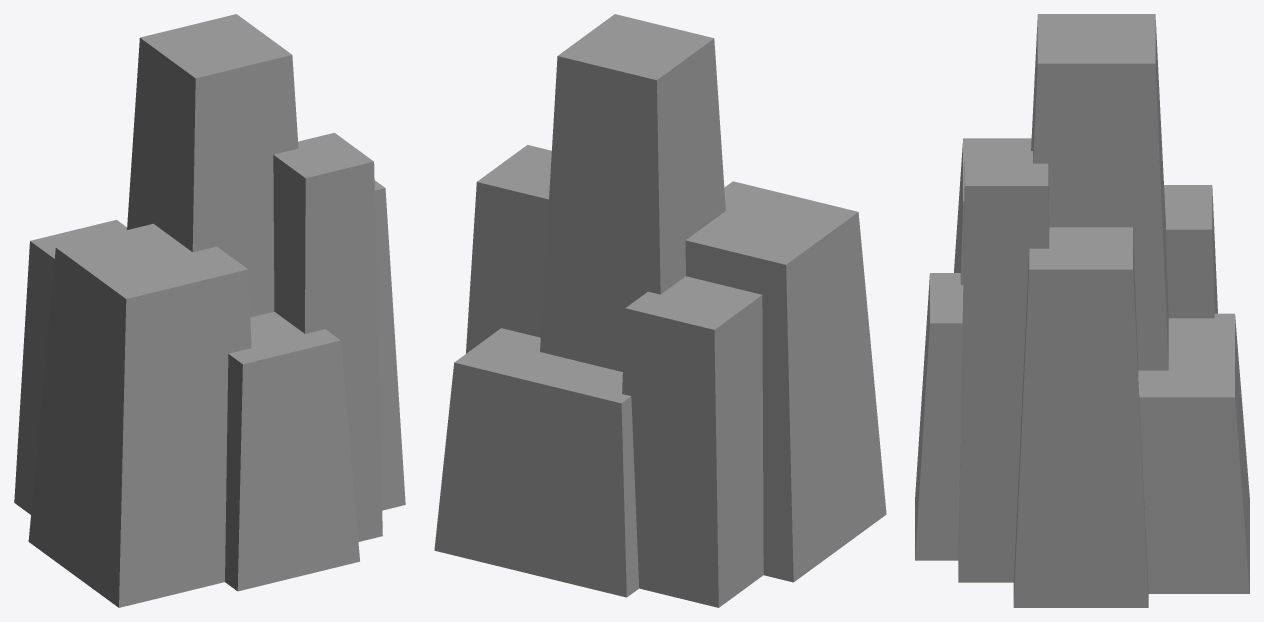
The model's file is SaltC.fbx.
3 renders of one model, left to right at view 1: azimuth 30°, elevation 25°; view 2: azimuth 150°, elevation 25°; view 3: azimuth 270°, elevation 25°, orthographic. The views are drawn at different scales.
Parts seen in each view (by area): view 1: SaltC; view 2: SaltC; view 3: SaltC.
Boxes of the visible parts, bbox=[...] form: SaltC: bbox=[14, 14, 405, 607]; SaltC: bbox=[434, 14, 886, 607]; SaltC: bbox=[915, 14, 1249, 607].
Bounding box in the file's own units: 28.43 × 39.53 × 24.38.
